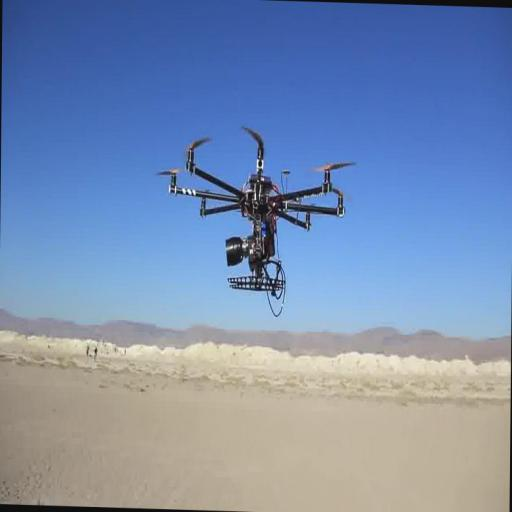drone: (157, 123, 355, 292)
